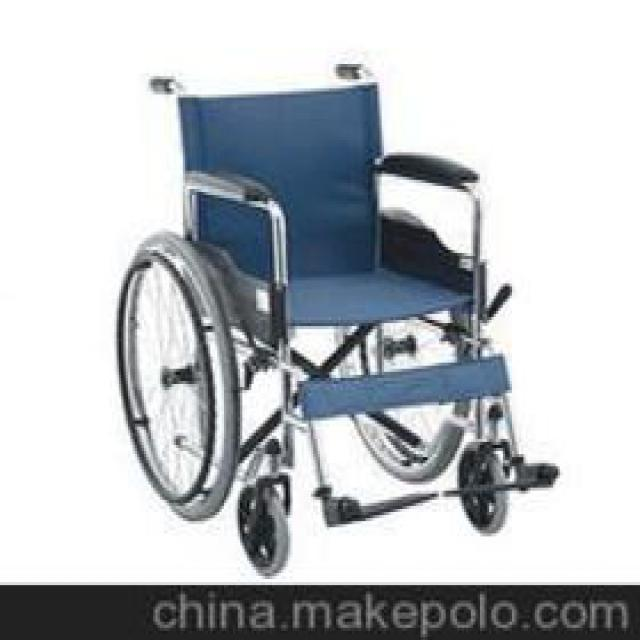wheelchairs: (118, 60, 556, 575)
